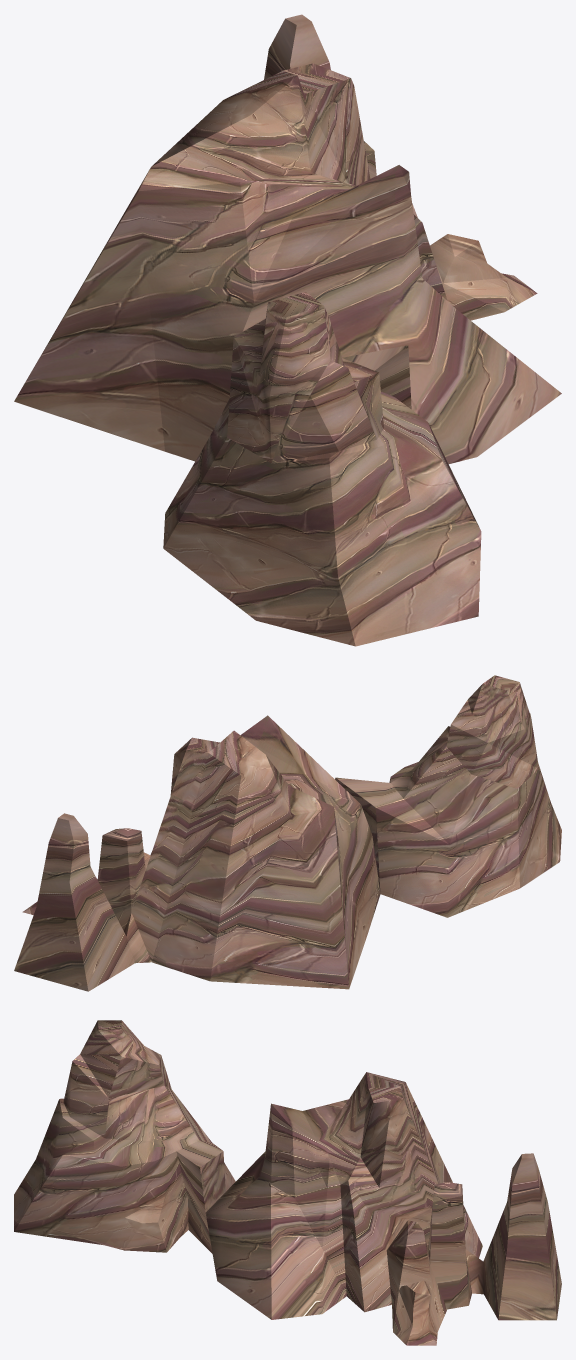
Rendered from mesh_rock_300_v2.fbx.
3 views of the same model, one above another, from view 1: azimuth 30°, elevation 25°; view 2: azimuth 150°, elevation 25°; view 3: azimuth 270°, elevation 25° (orthographic). The views are drawn at different scales.
Visible parts, largest first — view 1: pCube10; view 2: pCube10; view 3: pCube10.
Boxes of the visible parts, bbox=[...] form: pCube10: bbox=[14, 14, 561, 646]; pCube10: bbox=[14, 675, 561, 991]; pCube10: bbox=[14, 1020, 561, 1345].
Size of the model in its own units: 50.52 by 26.43 by 68.69.
Materials: 1 (1 with a texture image).
